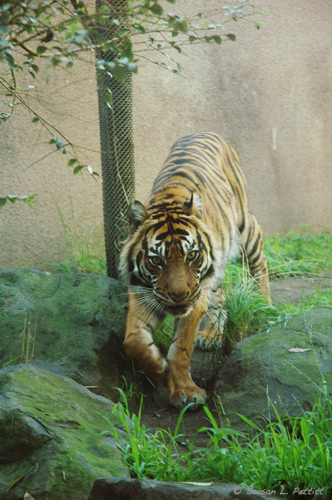Tigre: (121, 128, 276, 401)
